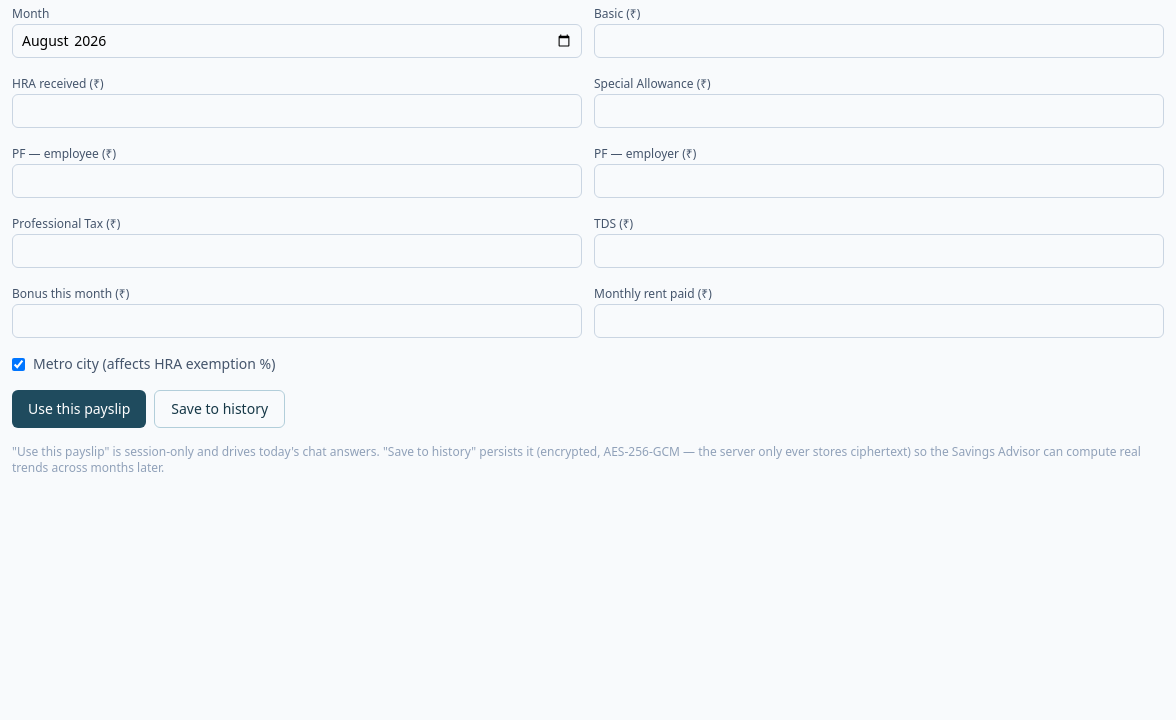
Test: ManualEntryForm › Save to history › shows an 'already saved' hint (not a red error) on a duplicate-month conflict
Click the button "Save to history". click: (220, 409)
box: [154,390,285,428]
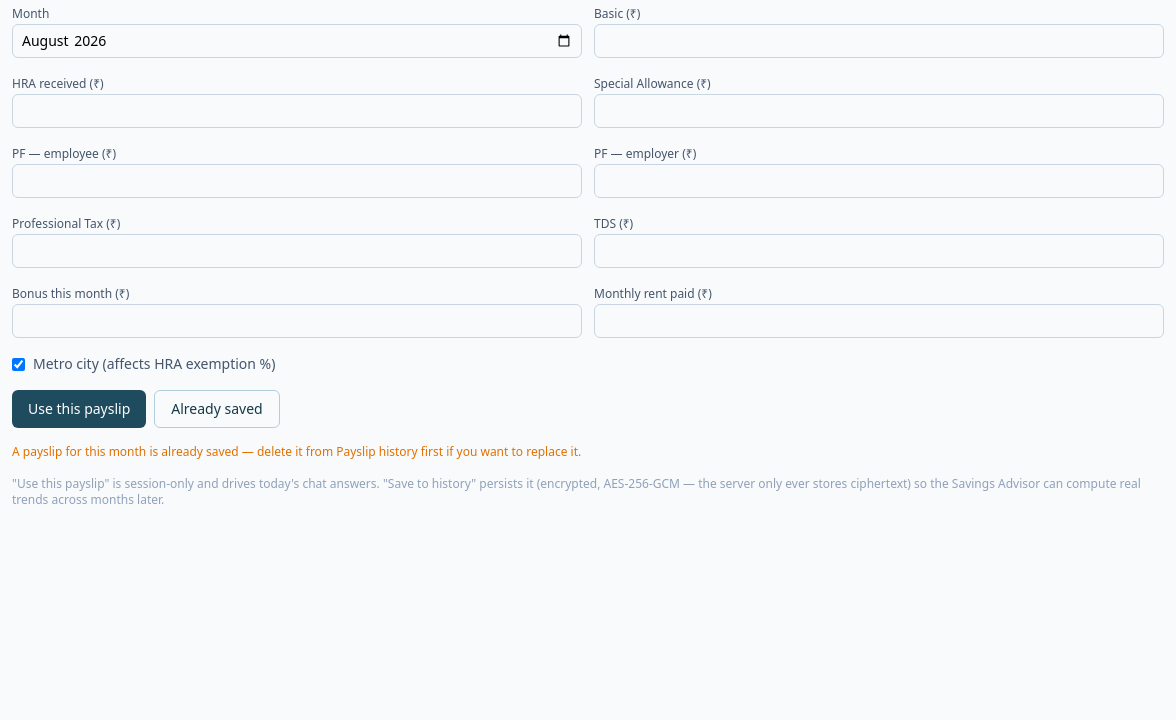
Expected: the button "Already saved" is shown, [154,390,280,428]
Expected: the text "A payslip for this month is already saved" is shown, [12,443,581,460]
